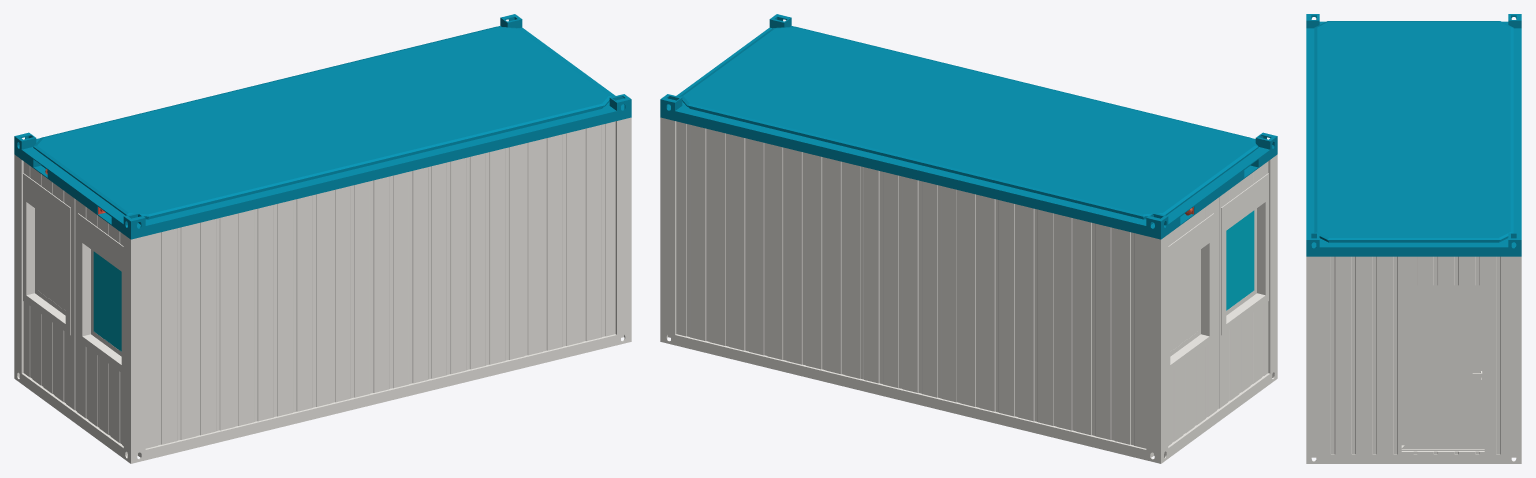
Rendered from container1.glb.
3 renders of one model, left to right at view 1: azimuth 30°, elevation 25°; view 2: azimuth 150°, elevation 25°; view 3: azimuth 270°, elevation 25°, orthographic. The views are drawn at different scales.
Parts seen in each view (by area): view 1: node19; view 2: node19; view 3: node19.
Boxes of the visible parts, x1,y1,x2,y2 form: node19: [14, 14, 631, 463]; node19: [660, 14, 1277, 463]; node19: [1306, 14, 1521, 463].
Bounding box in the file's own units: 6.05 × 2.8 × 2.44.
